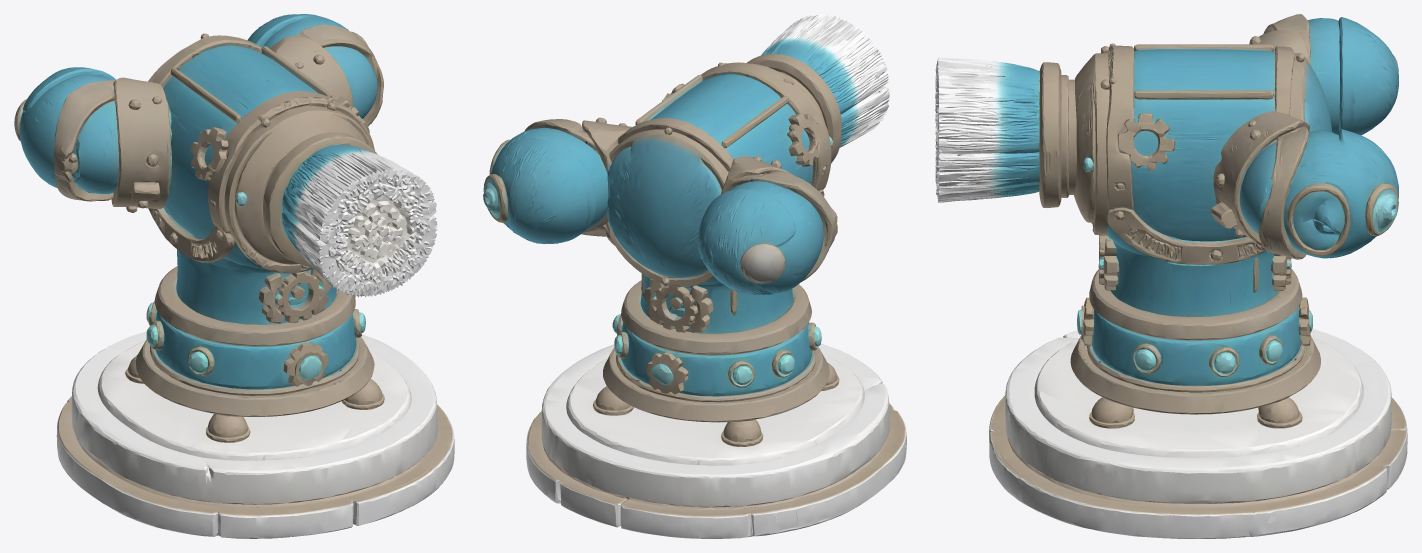
File: brush-turret.glb
The picture shows the model from 3 angles, left to right: view 1: azimuth 30°, elevation 25°; view 2: azimuth 150°, elevation 25°; view 3: azimuth 270°, elevation 25°; orthographic projection. The views are drawn at different scales.
Parts seen in each view (by area): view 1: model; view 2: model; view 3: model.
Part boxes in pixels (box(x1,y1,x2,y2)): model: box(14, 14, 454, 538); model: box(483, 14, 906, 538); model: box(935, 14, 1407, 538).
Size of the model in its own units: 1.63 by 1.79 by 1.9.
Materials: 1 (1 with a texture image).
